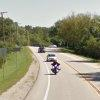Motorcycle: (47, 59, 68, 82)
